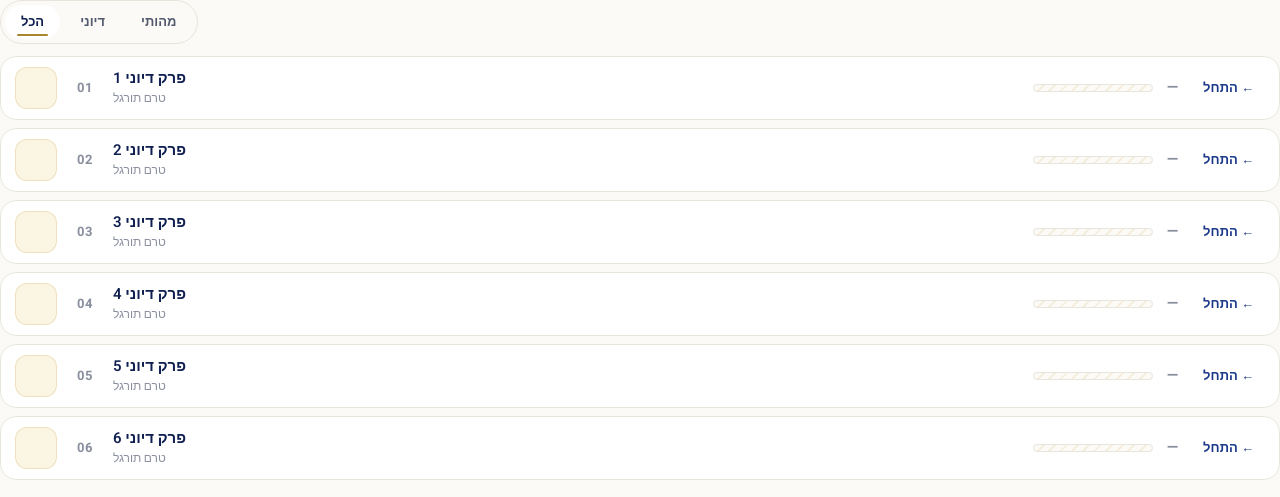
Test: MasteryRowsClient › renders the empty-state hint when the current filter has no rows
Click the radio button labelled "מהותי": click(159, 22) [125,5,192,38]
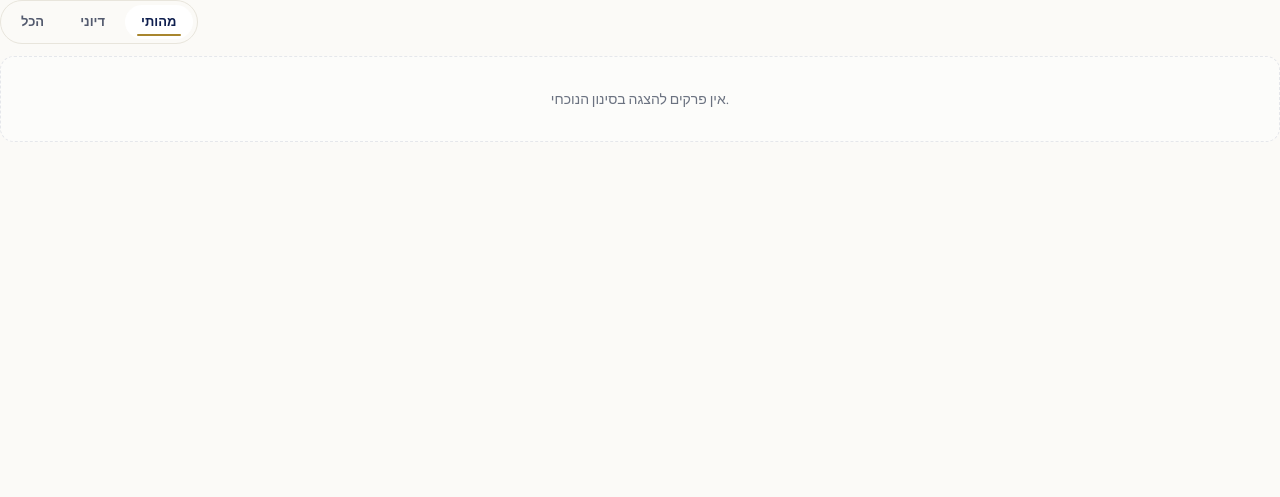
Check: no links are shown
Check: the text "אין פרקים להצגה בסינון הנוכחי." is shown, box [551,90,729,108]
